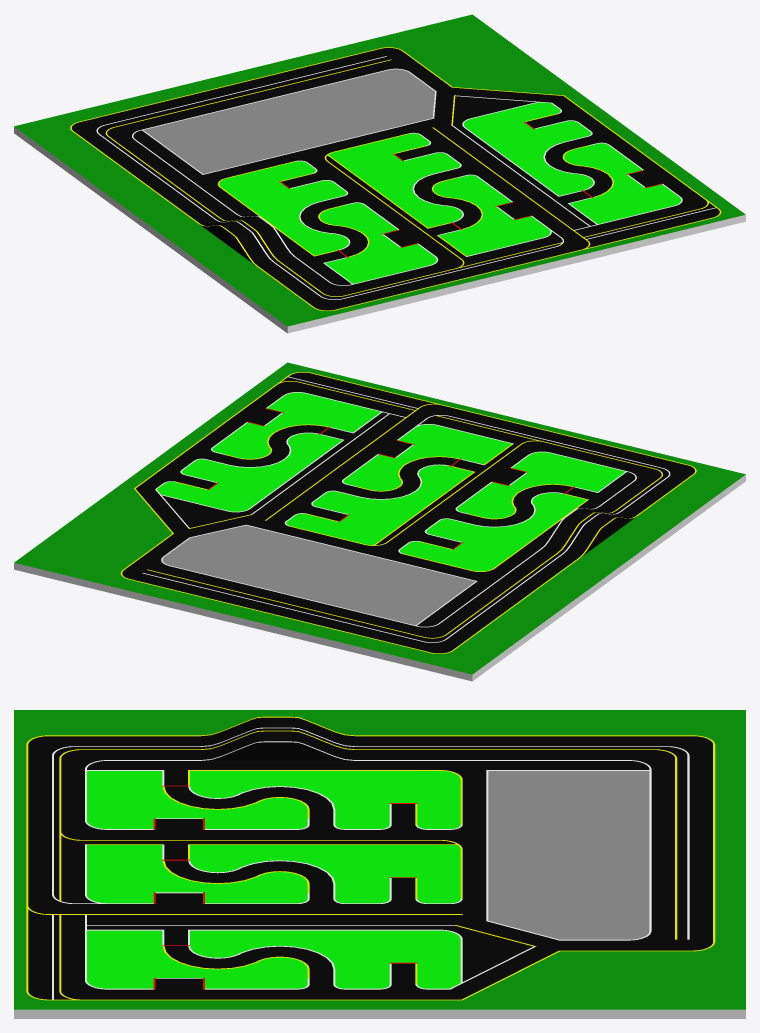
File: driving_map.dae
3 views of the same model, one above another, from view 1: azimuth 30°, elevation 25°; view 2: azimuth 150°, elevation 25°; view 3: azimuth 270°, elevation 25° (orthographic). The views are drawn at different scales.
Visible parts, largest first — view 1: SketchUp (×17); view 2: SketchUp (×18); view 3: SketchUp (×20).
Part boxes in pixels (x1,y1,x2,y2): SketchUp (×17): (14,14,745,333); SketchUp (×18): (14,362,745,681); SketchUp (×20): (14,710,745,1018).
Bounding box in the file's own units: 272 × 281 × 11.81.
